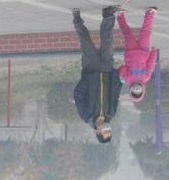person: (65, 5, 123, 141), (117, 6, 159, 101)
